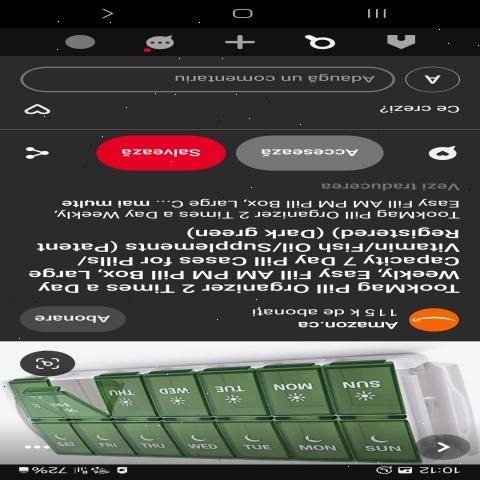PillBox: (5, 350, 464, 464)
